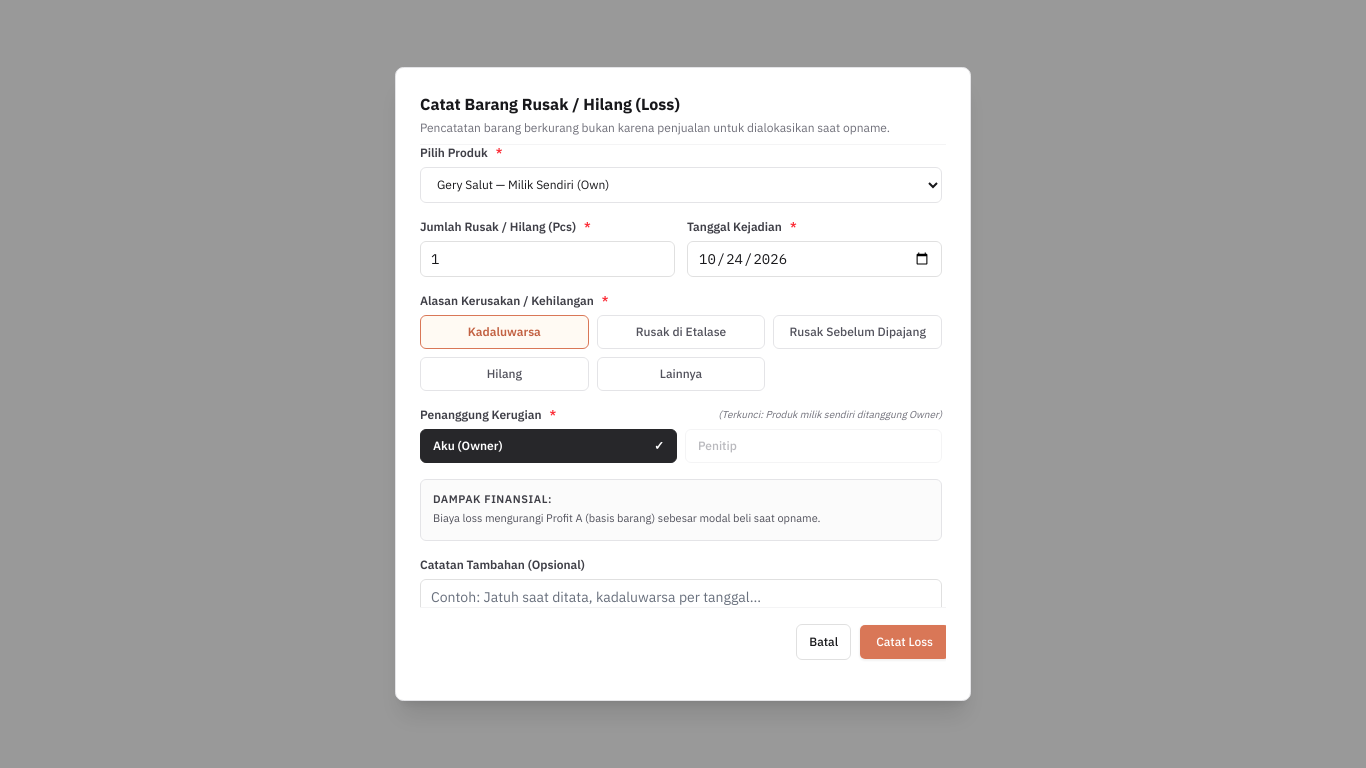
Test: Loss Frontend › LossDialog › applies default §5.6 and allows override when product is Consignor
// Select Lemper Ayam Pak Sani (consignor)
Select "Lemper Ayam Pak Sani — Titipan (Pak Sani)" in the dropdown: [681, 185] box 420,167 -> 942,203
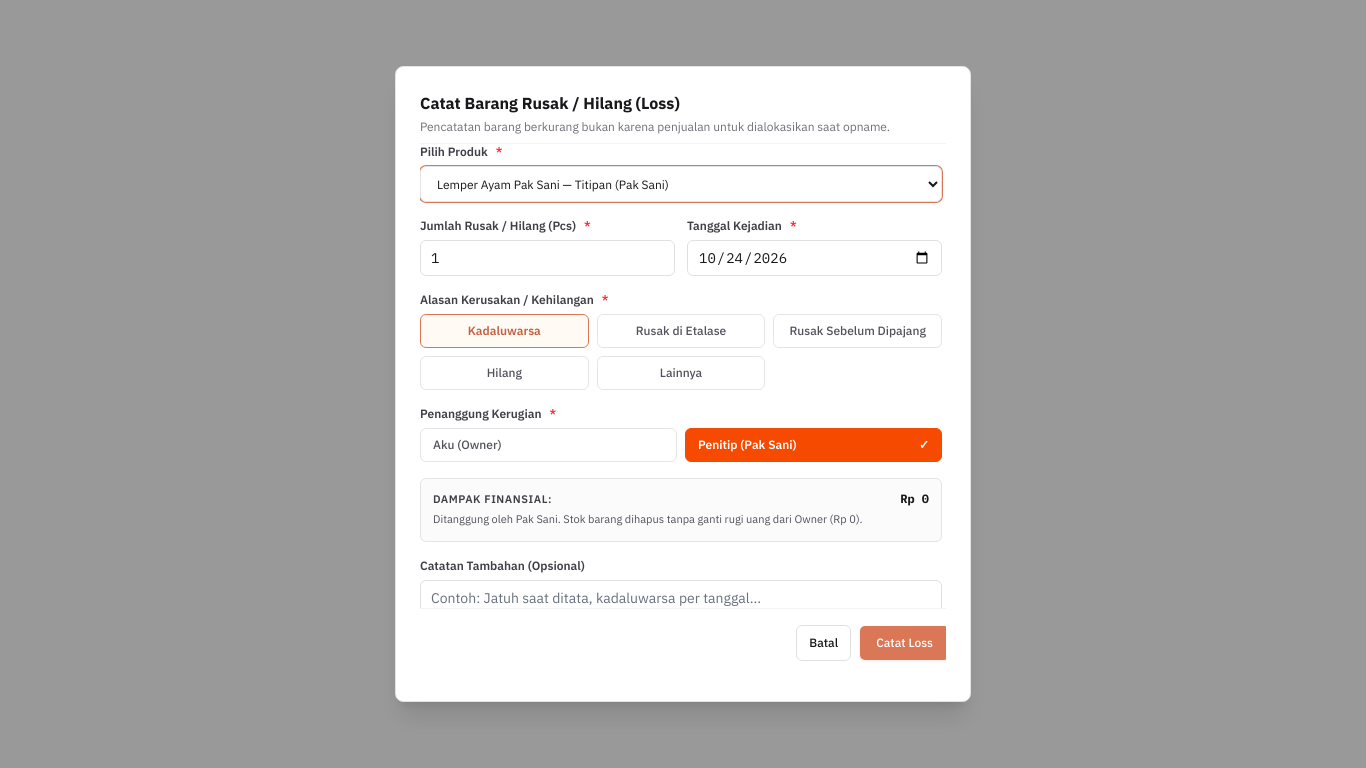
Now the text "Ditanggung oleh Pak Sani. Stok barang dihapus tanpa ganti rugi uang dari Owner (Rp 0)." is shown, box 433,512 -> 863,526
Click the button "Rusak di Etalase": [681, 331] box 597,314 -> 765,348
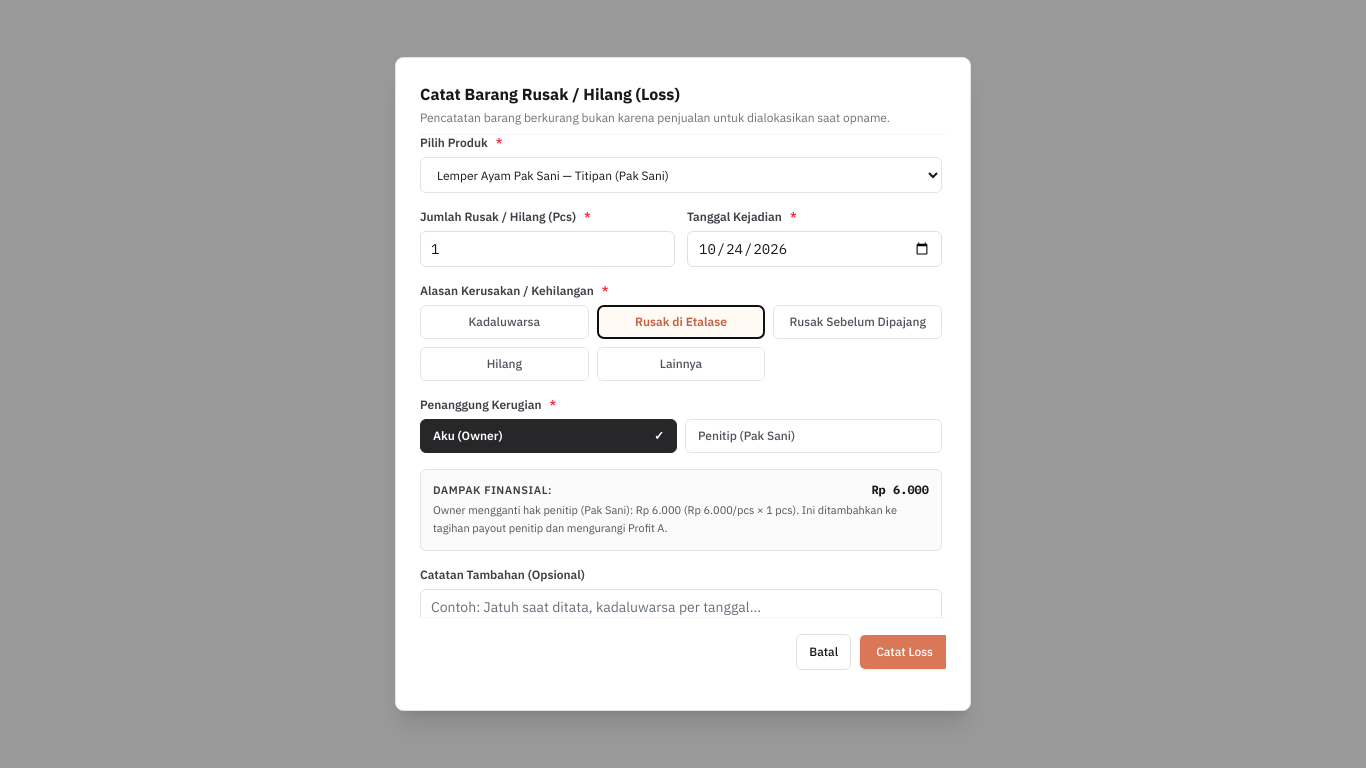
Now the text "Owner mengganti hak penitip (Pak Sani): Rp 6.000" is shown, box 433,503 -> 897,535
// Manual override back to Penitip
Click the button "Penitip (Pak Sani)": [814, 436] box 685,419 -> 942,453
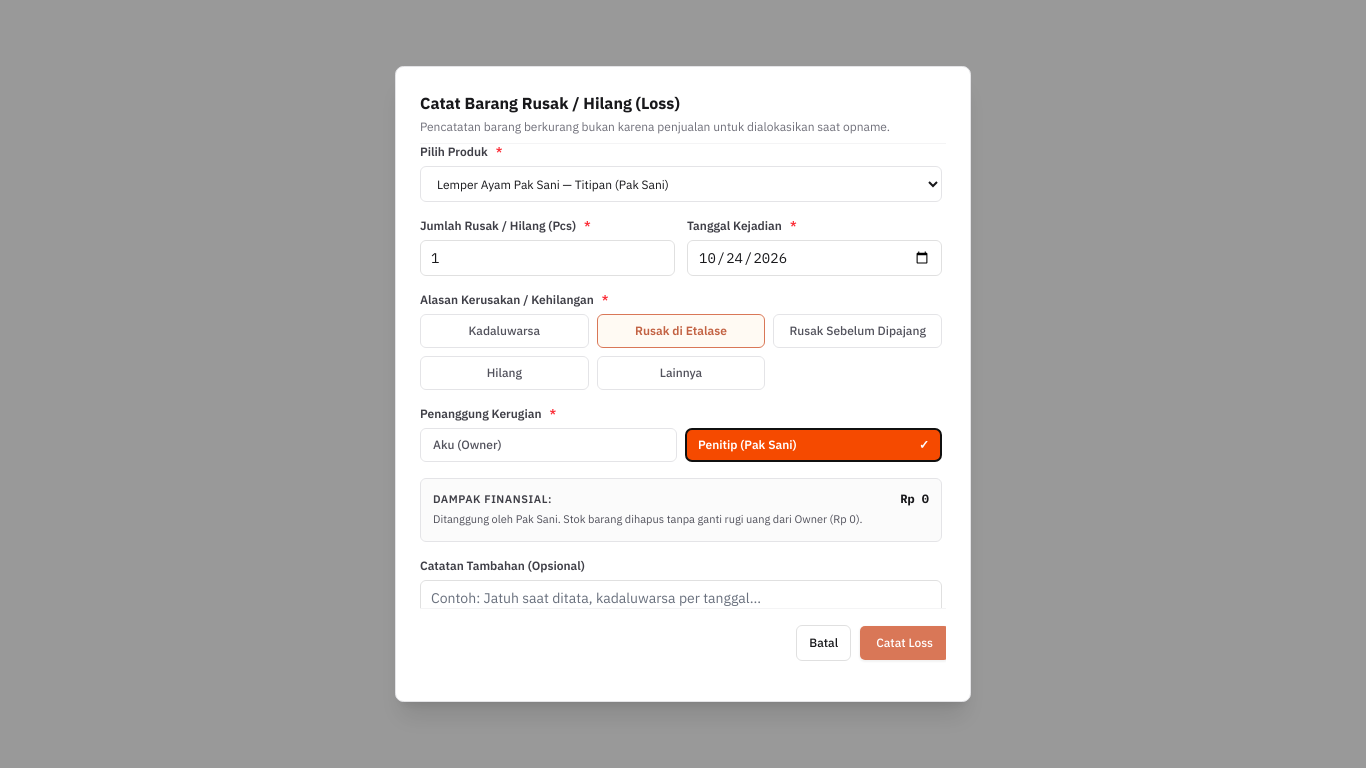
Now the text "Ditanggung oleh Pak Sani. Stok barang dihapus tanpa ganti rugi uang dari Owner (Rp 0)." is shown, box 433,512 -> 863,526
